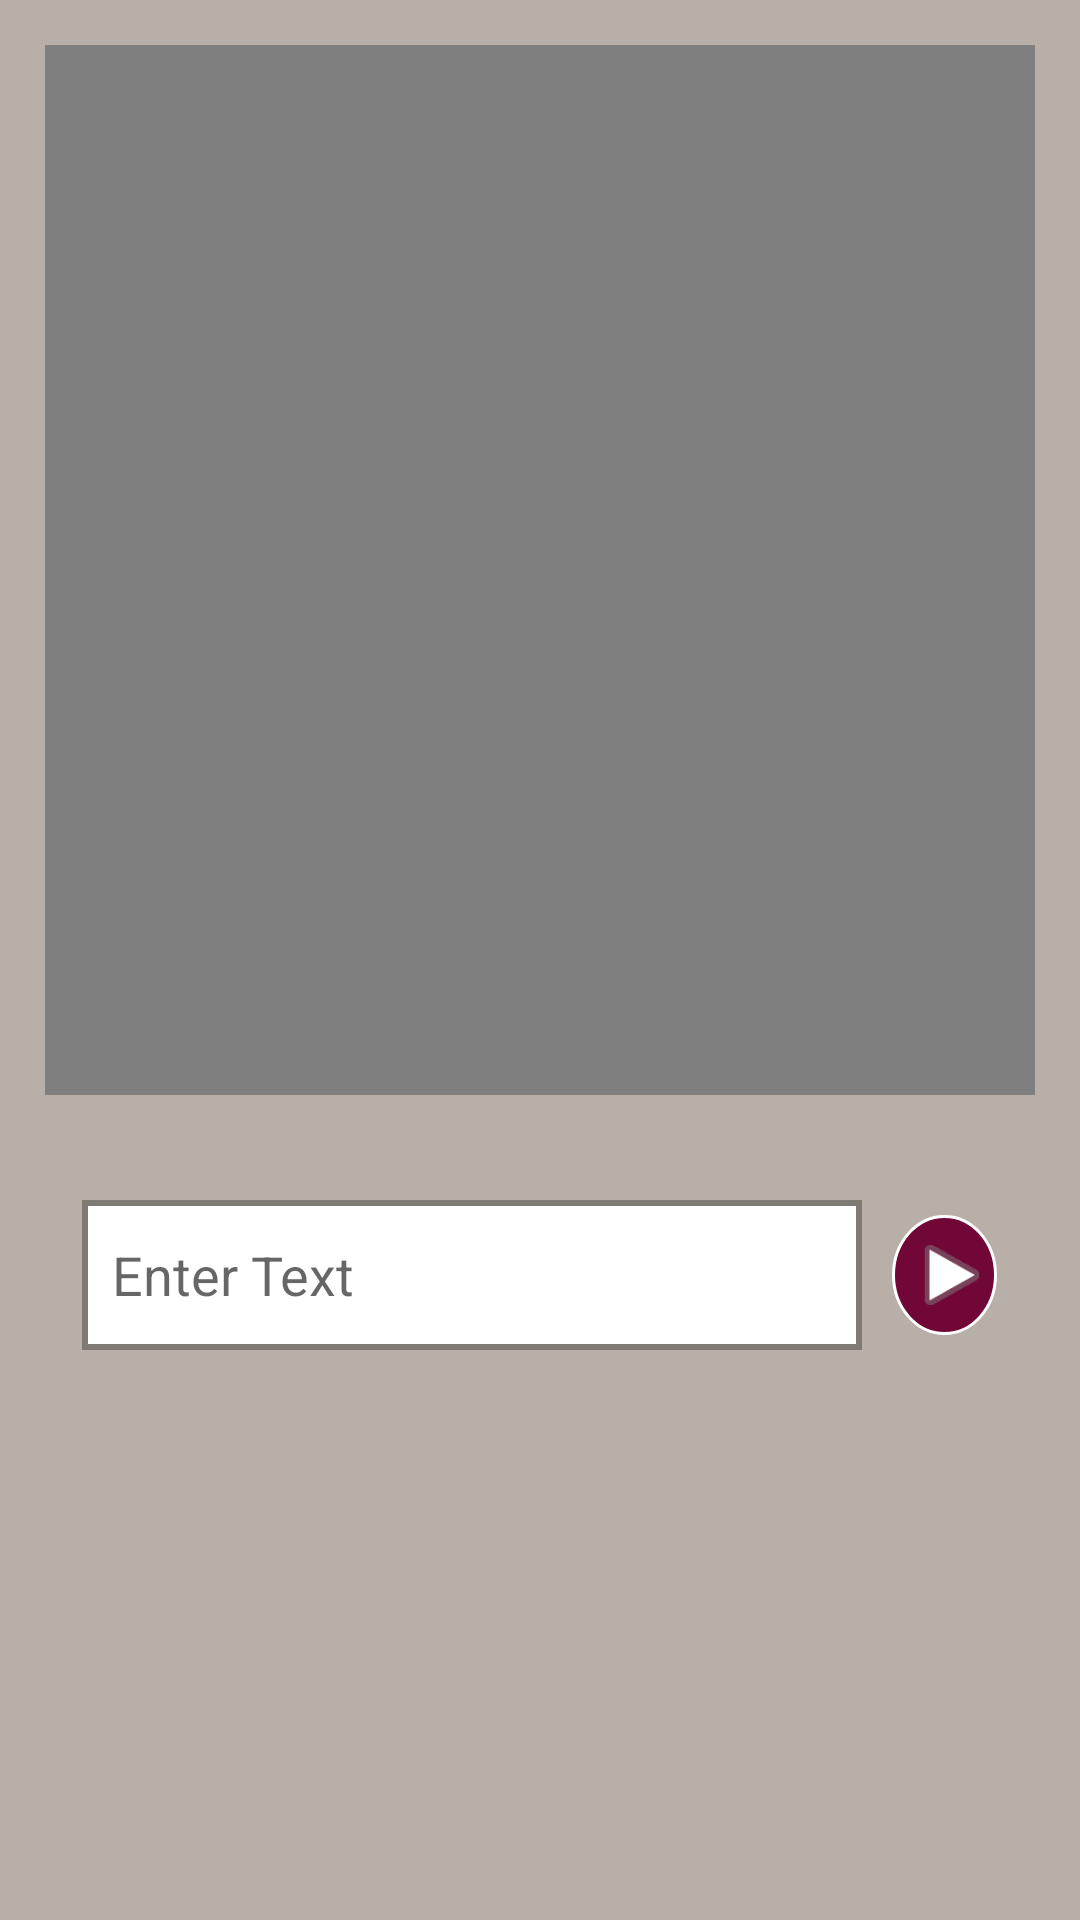

Icon bounding boxes for this 1080x1920 phone screenshot, format bbox(x1, y1, x2, y2):
play: bbox(892, 1215, 997, 1335)
